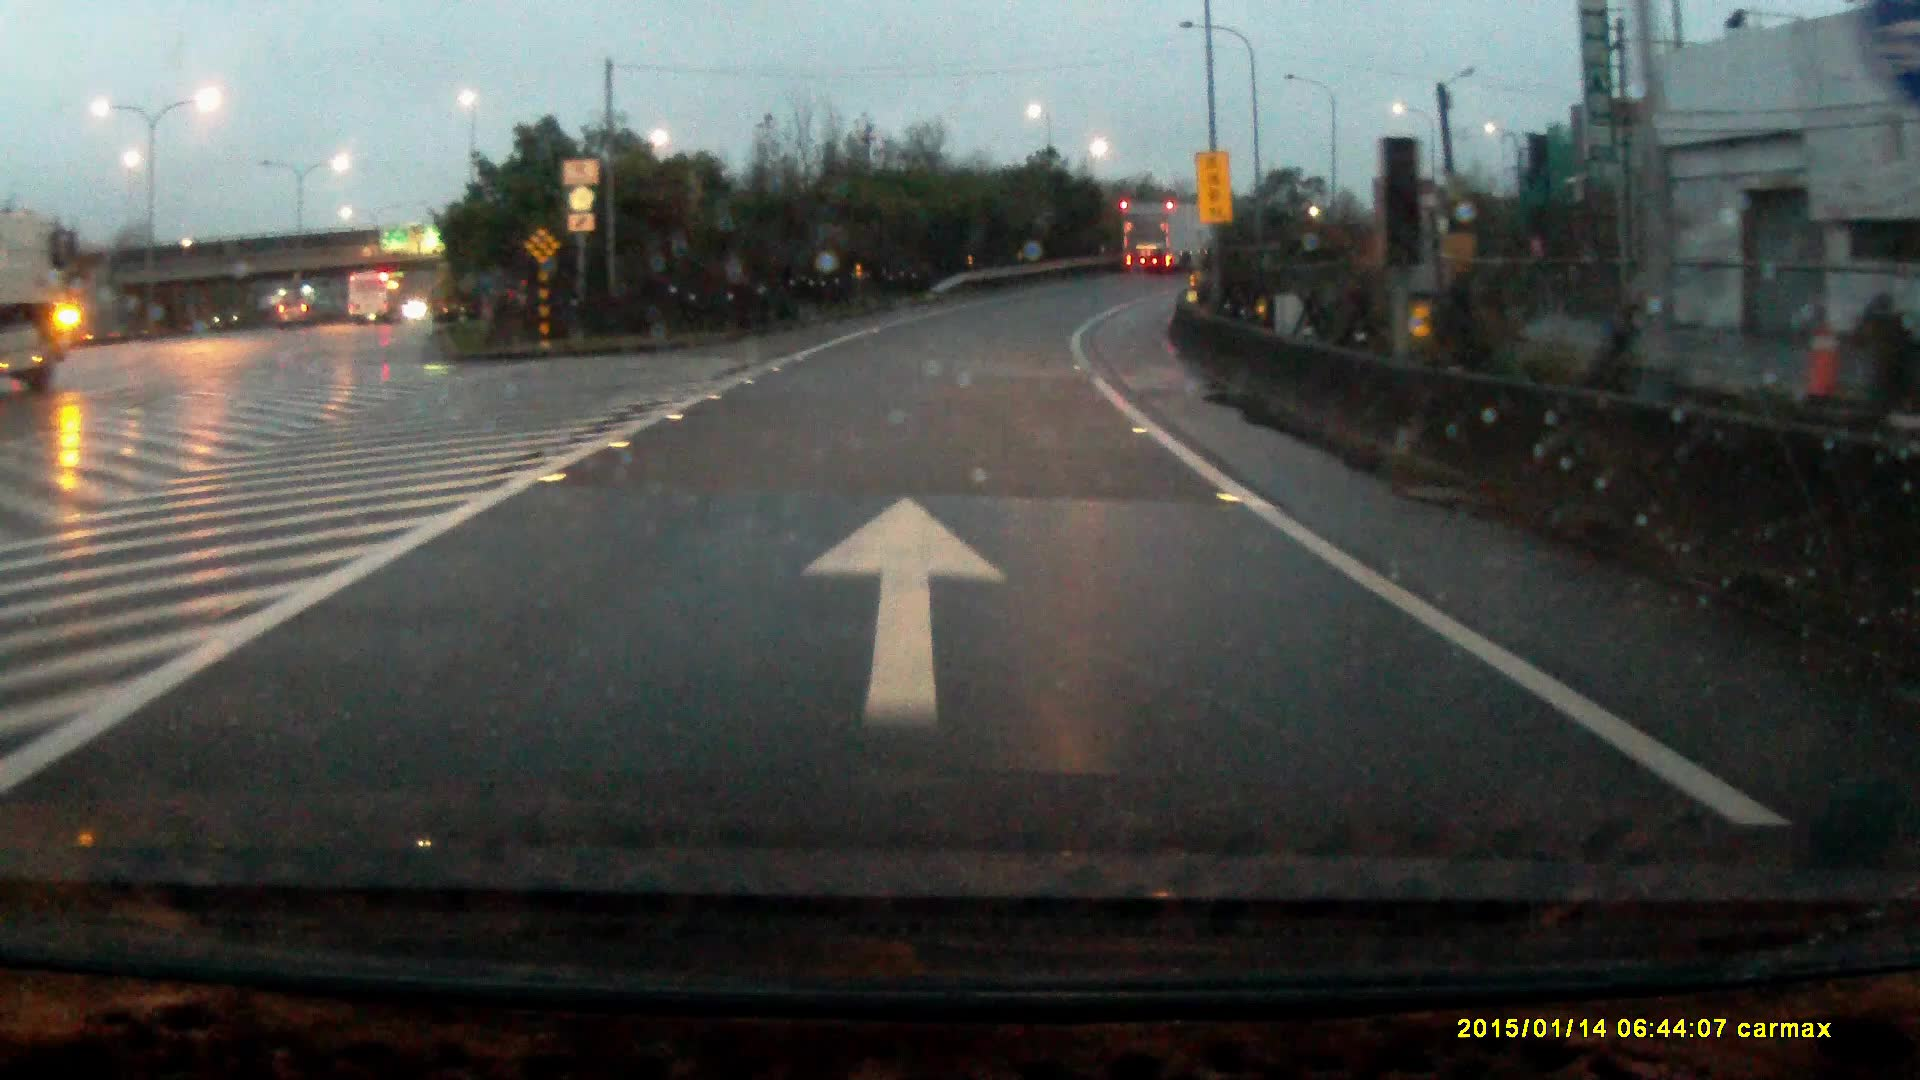vehicle: (1, 208, 90, 400), (1118, 202, 1221, 276), (347, 273, 406, 328), (280, 301, 313, 330)
